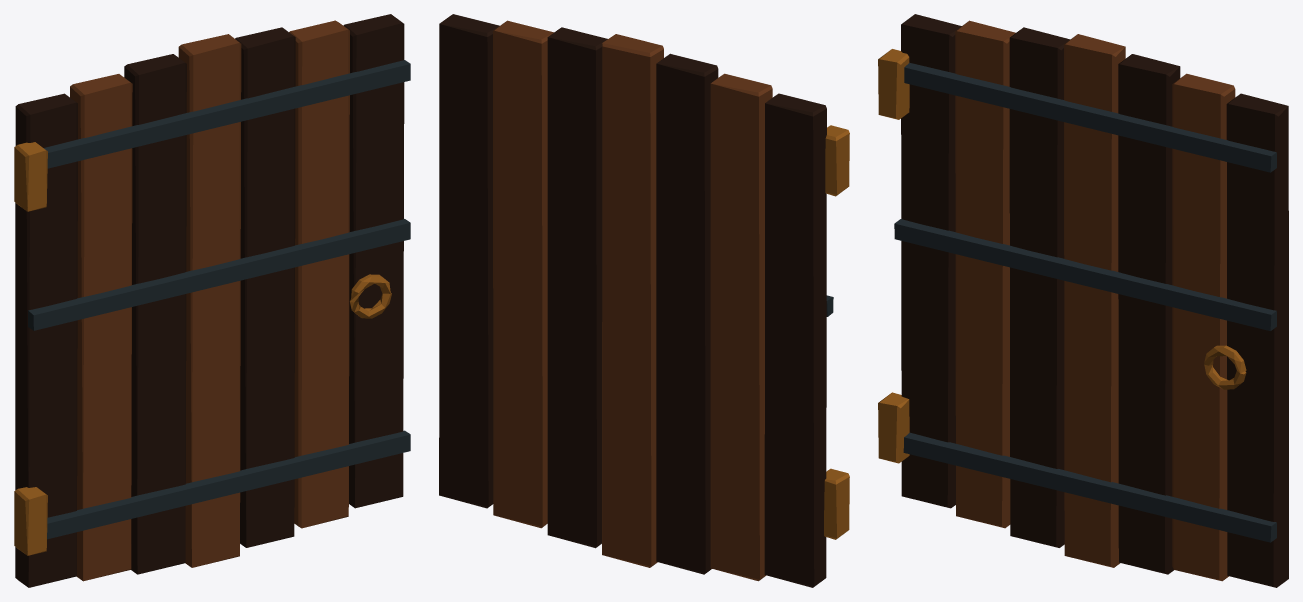
The model's file is Folha_portao_LOD1.fbx.
3 views of the same model, side by side, from view 1: azimuth 30°, elevation 25°; view 2: azimuth 150°, elevation 25°; view 3: azimuth 330°, elevation 25° (orthographic).
Parts seen in each view (by area): view 1: Folha_portao_LOD1; view 2: Folha_portao_LOD1; view 3: Folha_portao_LOD1.
Part boxes in pixels (box(x1,y1,x2,y2)): Folha_portao_LOD1: box(14, 14, 410, 587); Folha_portao_LOD1: box(439, 14, 849, 587); Folha_portao_LOD1: box(878, 14, 1288, 587).
Size of the model in its own units: 308 by 390 by 35.
Materials: 1 (1 with a texture image).
